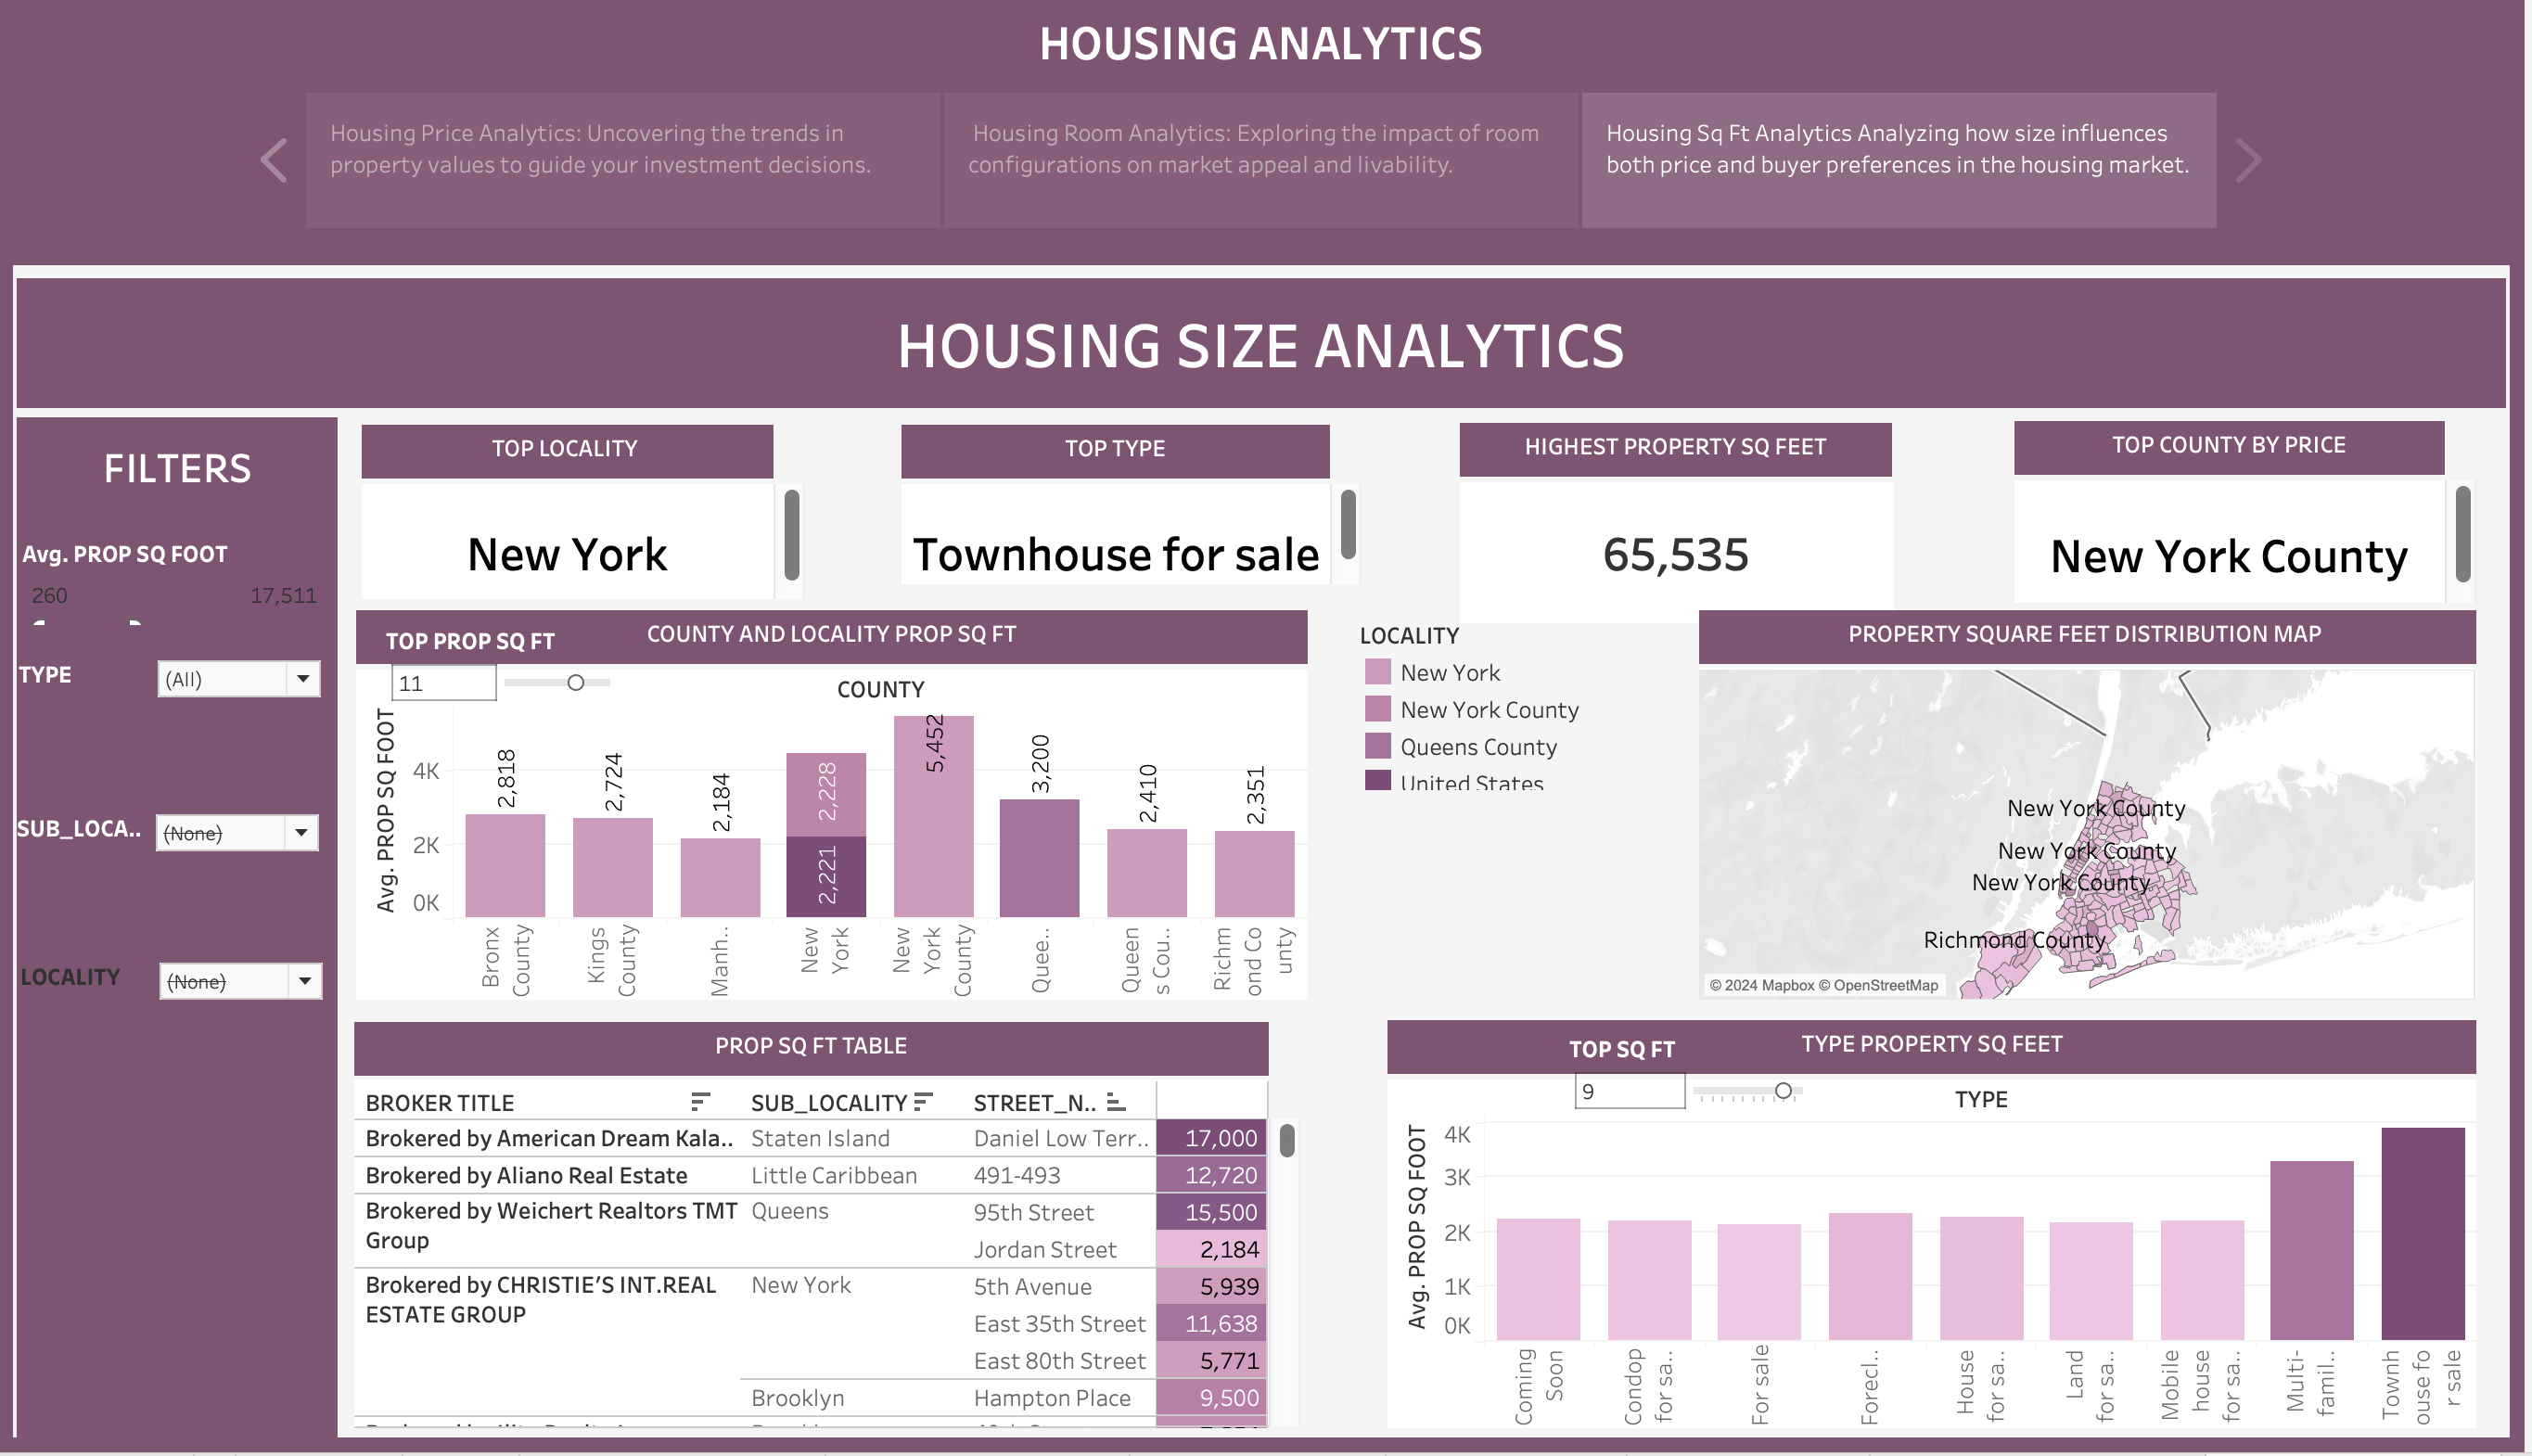

The page's visual inventory and layout, read from the dashboard file:
{"tool":"tableau","page":{"name":"HOUSING SIZE ANALYSIS","canvas":[1000,1000],"units":"permille","ordinal":2},"visuals":[{"type":"text","box":[1.5,11.1,996.9,110.7]},{"type":"worksheet","title":"TOP COUNTY BY PRICE ","mark":"Automatic","box":[801.9,132.7,191,155.6]},{"type":"worksheet","title":"HIGH SQ FT","mark":"Automatic","box":[579.2,135.2,332.8,334.2]},{"type":"worksheet","title":"TOP LOCALITY BY SQ FT","mark":"Automatic","box":[139.9,135.3,332.8,148.8]},{"type":"worksheet","title":"TOP TYPE BY SQ FT","mark":"Automatic","box":[355.8,136.5,332.8,136.5]},{"type":"text","box":[2.3,142.7,127.6,57.8]},{"type":"filter","title":"PROP SQ FEET DISTRIBUTION","param":"[federated.0kvu42z1iqwr2r0zqkhqn0pgwafr].[avg:F6:qk]","box":[3.8,232.5,123,75]},{"type":"worksheet","title":"COUNTY LOCALITY SQ FT","mark":"Automatic","rows":["F6"],"cols":["F12"],"box":[137.6,294,381.2,333.3]},{"type":"worksheet","title":"PROP SQ FEET DISTRIBUTION","mark":"Automatic","box":[675.6,294,311.3,333.3]},{"type":"legend","title":"COUNTY LOCALITY SQ FT","param":"[federated.0kvu42z1iqwr2r0zqkhqn0pgwafr].[none:F11:nk]","box":[539.6,302.6,107.6,145.1]},{"type":"parameter","param":"[Parameters].[Parameter 4]","box":[149.1,306.3,92.2,82.4]},{"type":"filter","title":"PROP SQ FEET DISTRIBUTION","param":"[federated.0kvu42z1iqwr2r0zqkhqn0pgwafr].[none:F2:nk]","box":[2.3,332.1,123,54.1]},{"type":"filter","title":"PROP SQ FEET DISTRIBUTION","param":"[federated.0kvu42z1iqwr2r0zqkhqn0pgwafr].[none:F13:nk]","box":[1.5,463.7,123,54.1]},{"type":"filter","title":"PROP SQ FEET DISTRIBUTION","param":"[federated.0kvu42z1iqwr2r0zqkhqn0pgwafr].[none:F11:nk]","box":[3.1,590.4,123,54.1]},{"type":"worksheet","title":"TYPE PROP SQ FT","mark":"Automatic","rows":["F6"],"cols":["F2"],"box":[550.4,644.5,436.6,349.3]},{"type":"worksheet","title":"SQ FT TABLE","mark":"Square","rows":["F1","F13","F14"],"box":[136.8,645.8,398.9,346.9]},{"type":"parameter","param":"[Parameters].[Parameter 3]","box":[623.4,655.6,96.1,82.4]}]}

Visuals, with their boxes on the dashboard's canvas, which has no fixed pixel size, in thousandths of its width and height (x1, y1, x2, y2). These are canvas units, not pixel positions in the 2532x1456 screenshot, which may show the page scaled, cropped or inside an application window:
text: {"x1": 2, "y1": 11, "x2": 998, "y2": 122}
"TOP COUNTY BY PRICE " worksheet: {"x1": 802, "y1": 133, "x2": 993, "y2": 288}
"HIGH SQ FT" worksheet: {"x1": 579, "y1": 135, "x2": 912, "y2": 469}
"TOP LOCALITY BY SQ FT" worksheet: {"x1": 140, "y1": 135, "x2": 473, "y2": 284}
"TOP TYPE BY SQ FT" worksheet: {"x1": 356, "y1": 136, "x2": 689, "y2": 273}
text: {"x1": 2, "y1": 143, "x2": 130, "y2": 200}
"PROP SQ FEET DISTRIBUTION" filter: {"x1": 4, "y1": 232, "x2": 127, "y2": 308}
"COUNTY LOCALITY SQ FT" worksheet: {"x1": 138, "y1": 294, "x2": 519, "y2": 627}
"PROP SQ FEET DISTRIBUTION" worksheet: {"x1": 676, "y1": 294, "x2": 987, "y2": 627}
"COUNTY LOCALITY SQ FT" legend: {"x1": 540, "y1": 303, "x2": 647, "y2": 448}
parameter: {"x1": 149, "y1": 306, "x2": 241, "y2": 389}
"PROP SQ FEET DISTRIBUTION" filter: {"x1": 2, "y1": 332, "x2": 125, "y2": 386}
"PROP SQ FEET DISTRIBUTION" filter: {"x1": 2, "y1": 464, "x2": 124, "y2": 518}
"PROP SQ FEET DISTRIBUTION" filter: {"x1": 3, "y1": 590, "x2": 126, "y2": 644}
"TYPE PROP SQ FT" worksheet: {"x1": 550, "y1": 644, "x2": 987, "y2": 994}
"SQ FT TABLE" worksheet (Square marks): {"x1": 137, "y1": 646, "x2": 536, "y2": 993}
parameter: {"x1": 623, "y1": 656, "x2": 720, "y2": 738}
